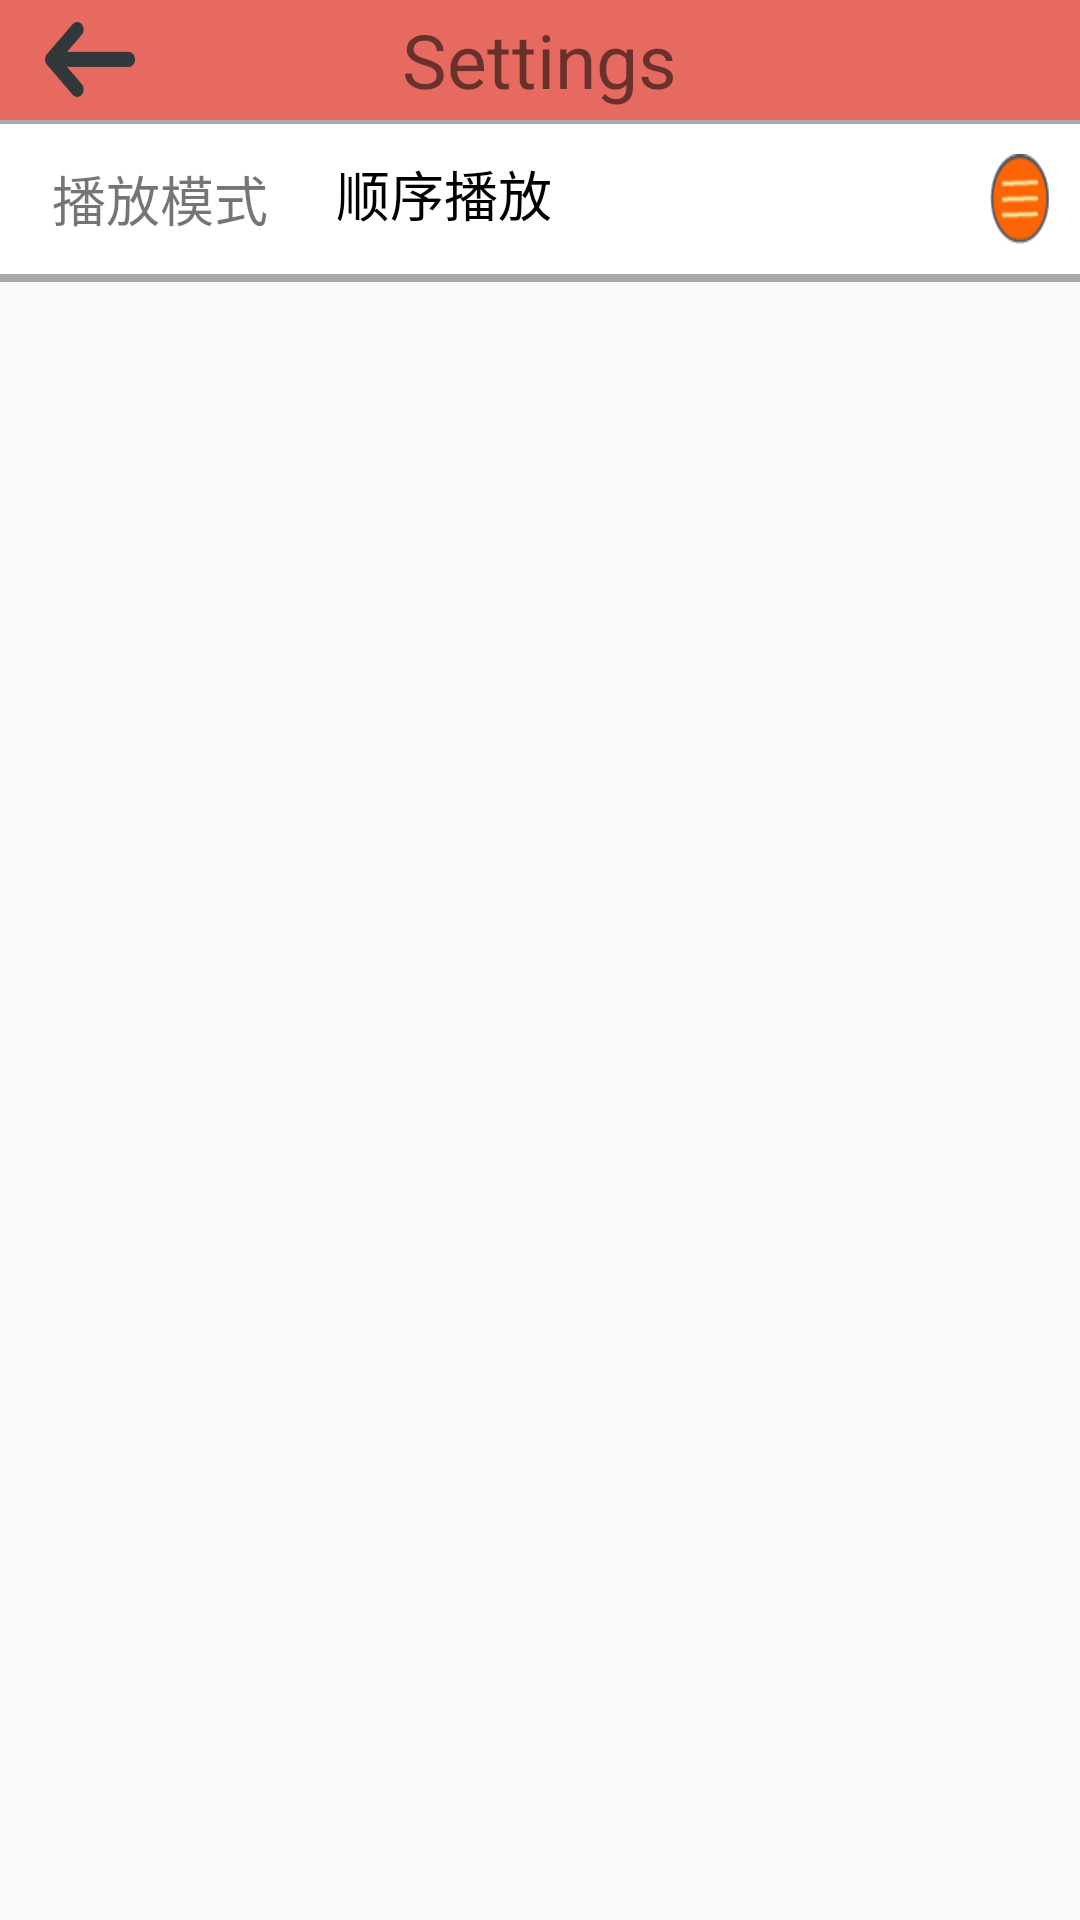

Named icons in this screenshot (1080×1920) and their centers, (x=x, y=y):
settings back: (x=90, y=59)
